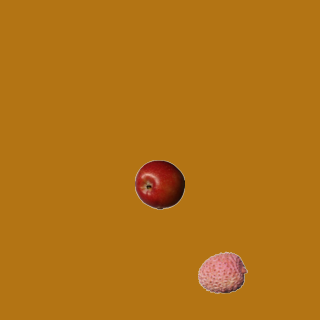Apple Braeburn: (134, 159, 184, 209)
Lychee: (197, 247, 247, 297)
